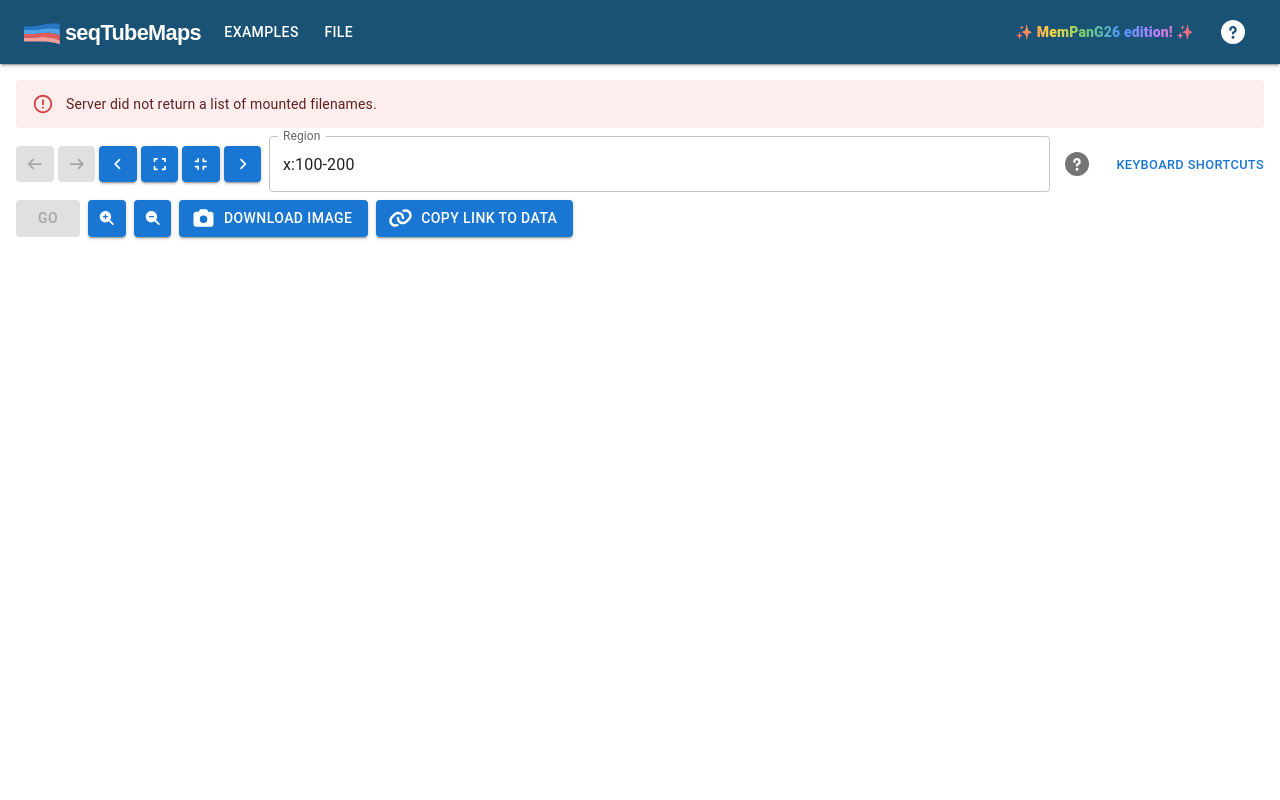
Test case: loads a data source picked from the datasets menu
Expected: the dropdown labelled "Region" holds "x:100-200", [278, 145, 1011, 183]
Click the button with test id "examplesMenuButton": (262, 32) [216, 14, 307, 50]
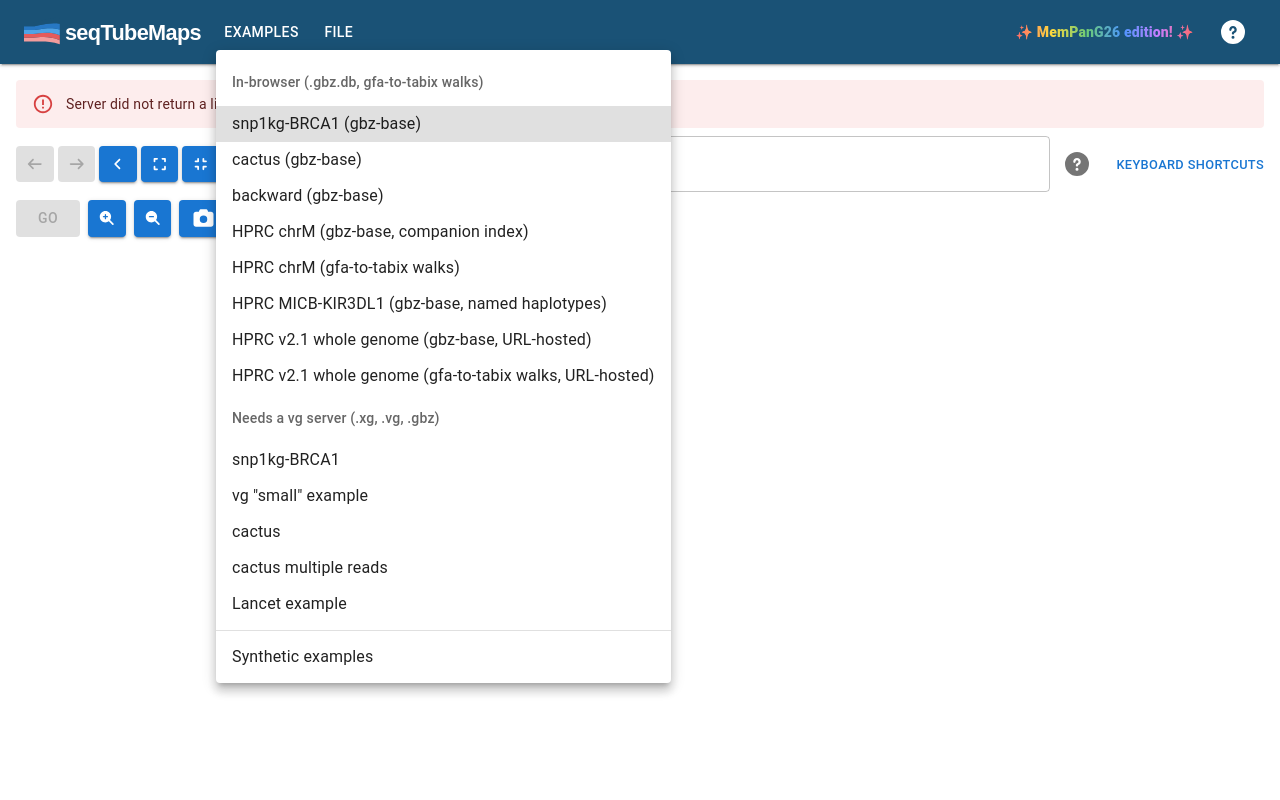
Click the menu item "cactus": (256, 532) [232, 522, 281, 541]
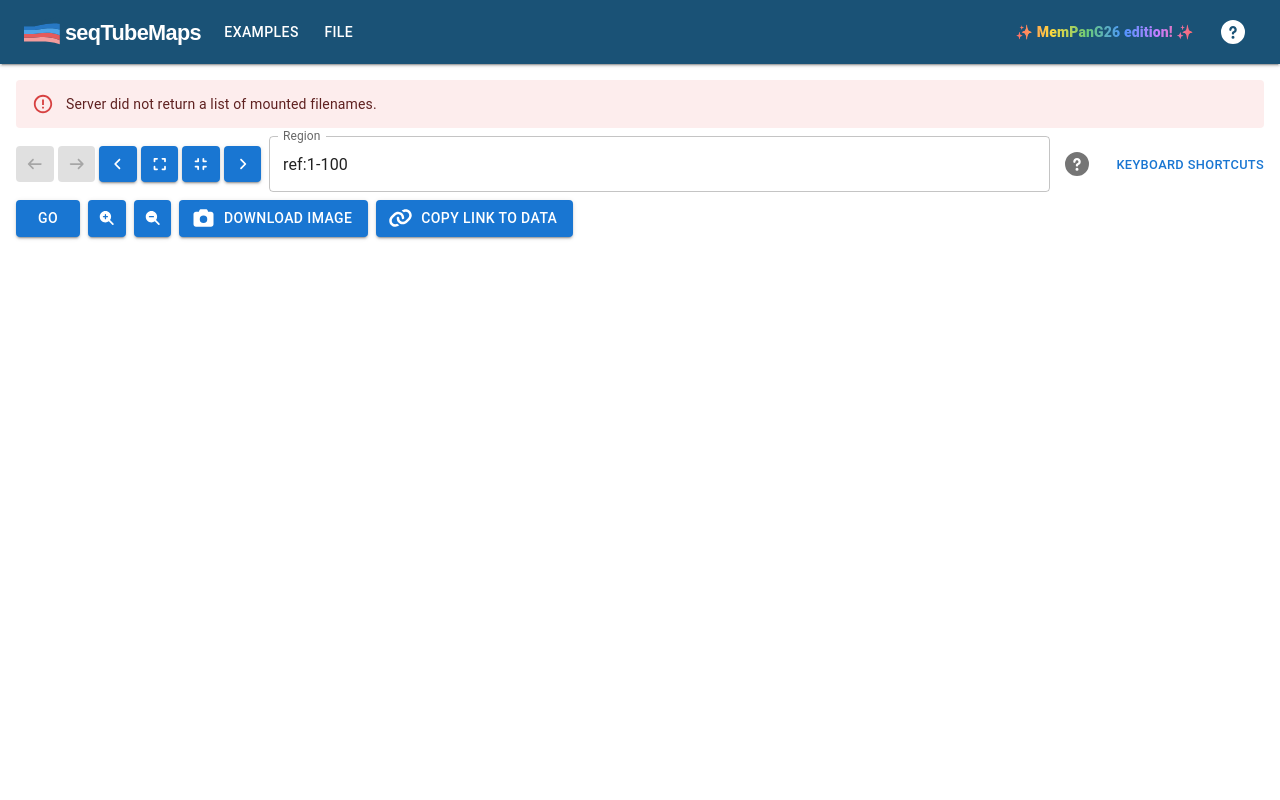
Result: the dropdown labelled "Region" holds "ref:1-100" at [278, 145, 1011, 183]
